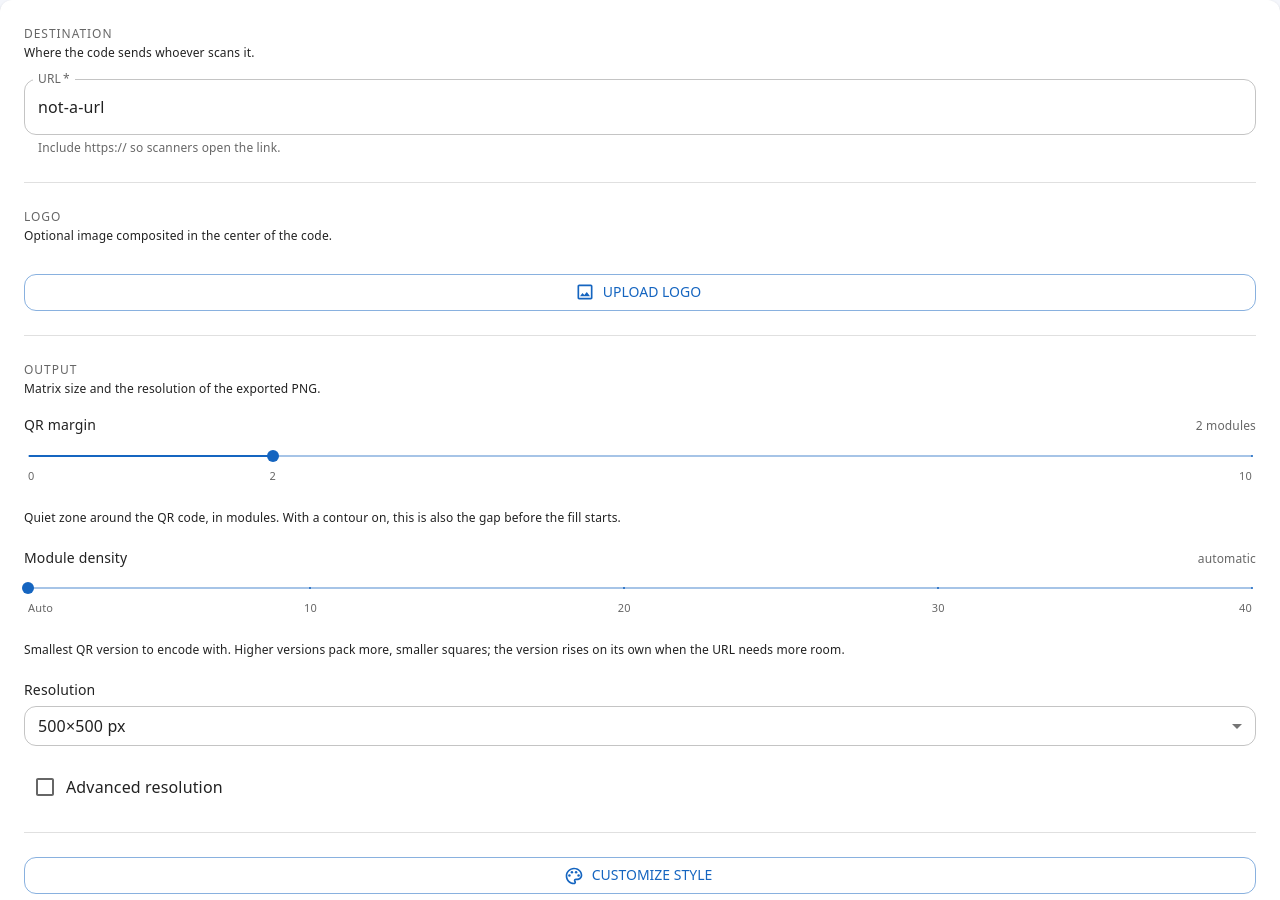
Scenario: QrForm › keeps the neutral hint until the URL field is left
Expected: the text "Include https:// so scanners open the link." is shown, [38,139,281,156]
Click the field labelled "URL *" at point(640, 107), box [24,79,1256,135]
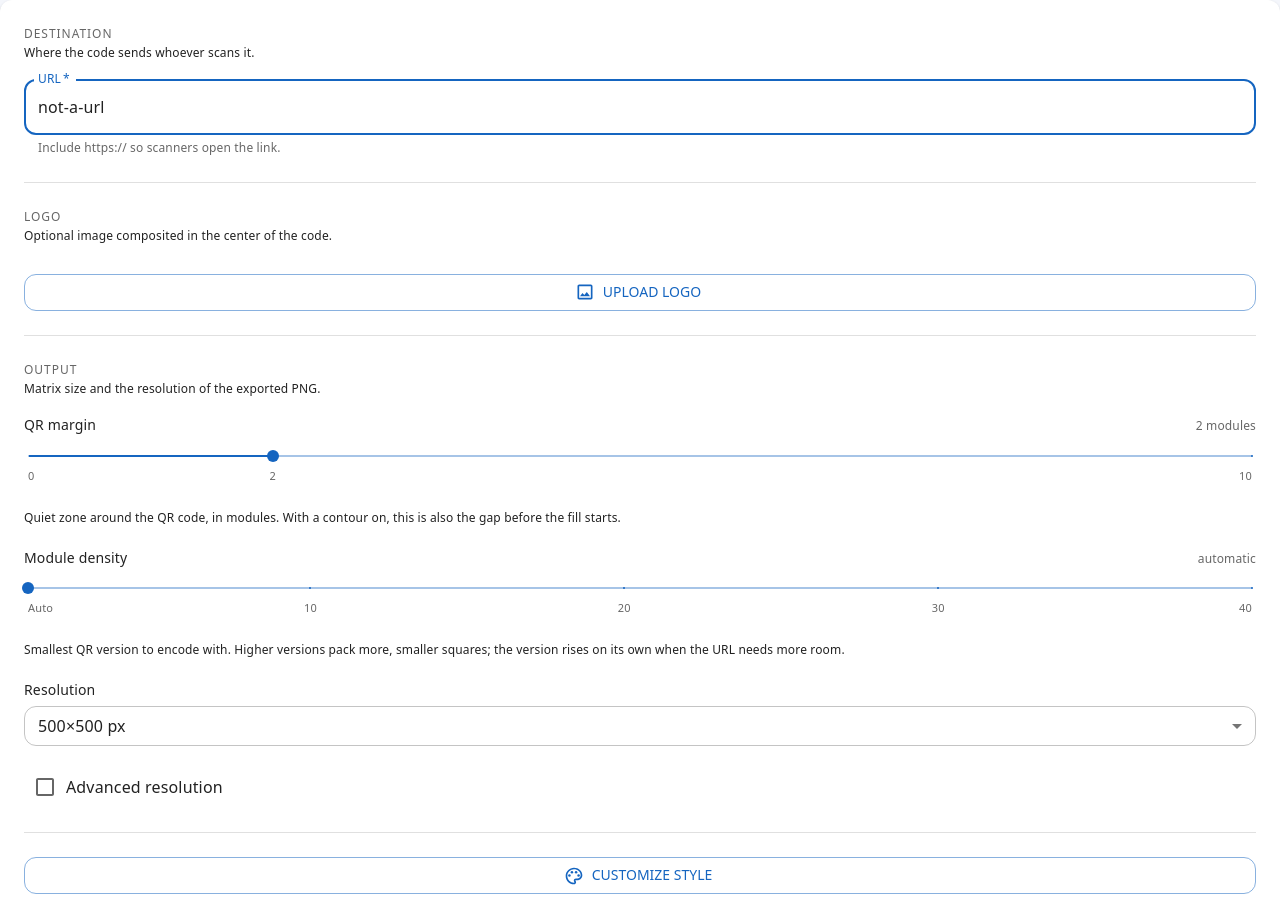
Press Tab
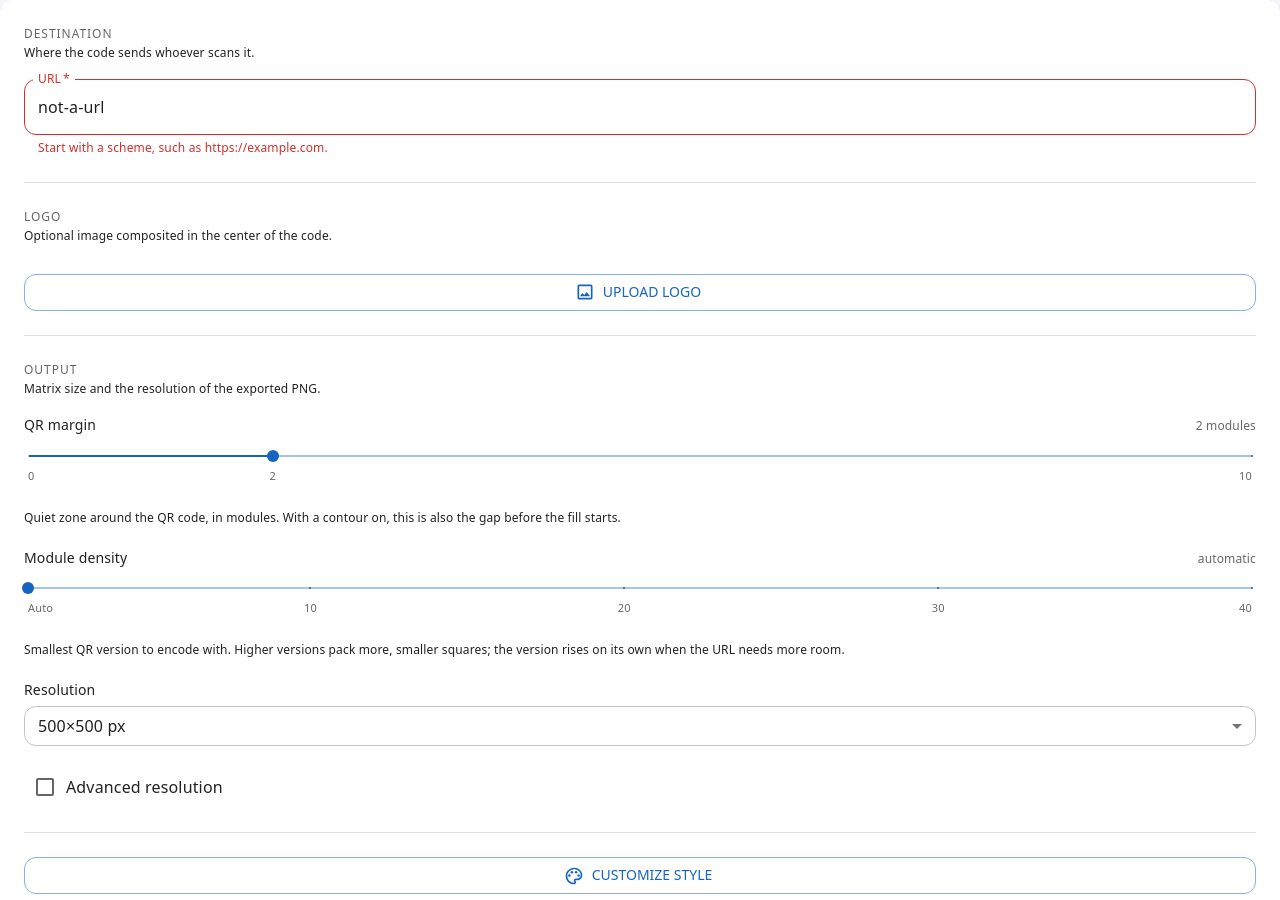
Result: the text "Start with a scheme, such as https://example.com." is shown at [38,139,328,156]
